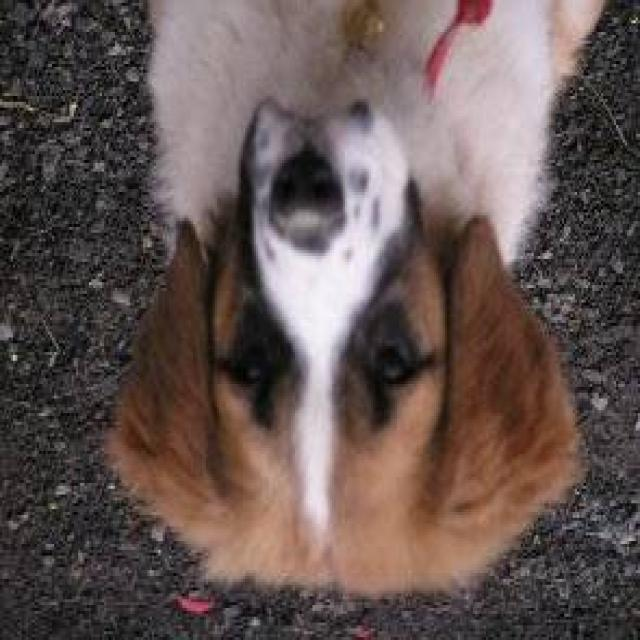dog: (97, 0, 640, 607)
